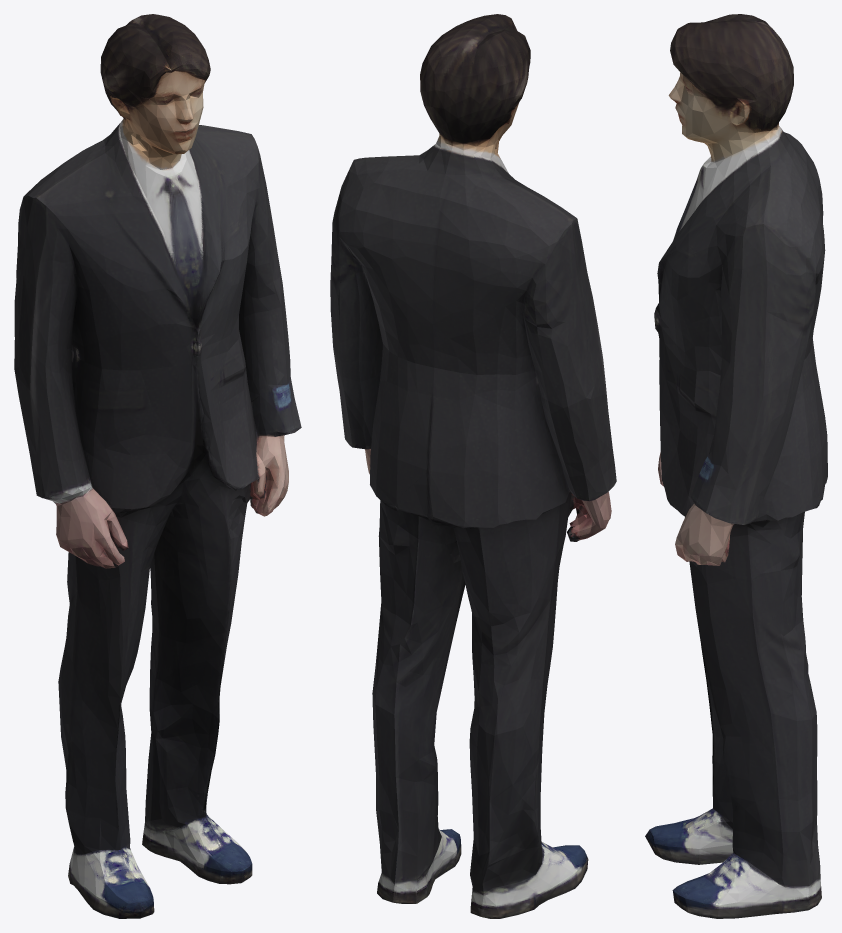
Rendered from npc_jas.glb.
The picture shows the model from 3 angles, left to right: view 1: azimuth 30°, elevation 25°; view 2: azimuth 150°, elevation 25°; view 3: azimuth 270°, elevation 25°; orthographic projection.
Visible parts, largest first — view 1: world; view 2: world; view 3: world.
Boxes of the visible parts, x1,y1,x2,y2 form: world: (14, 14, 301, 918); world: (330, 14, 616, 918); world: (645, 14, 827, 918).
Bounding box in the file's own units: 0.3199 × 0.9999 × 0.193.
Materials: 1 (1 with a texture image).
